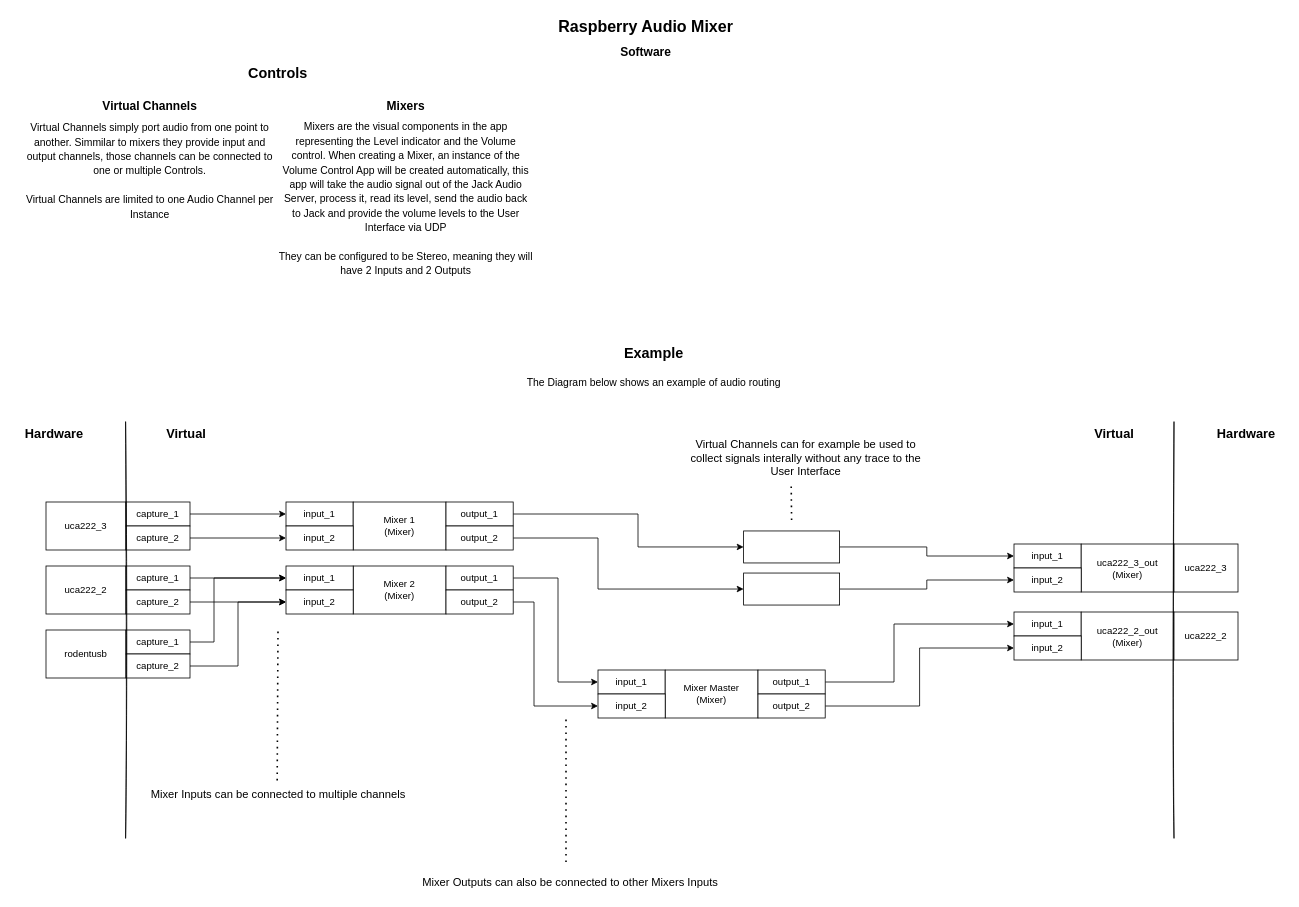
The diagram is 1299 pixels wide and 907 high, and some of its shapes have lost their labels. The centre of each missing label's shape, as x and y in pixels:
Channel Main L (Virtual Channel): pixel 791 546
Channel Main R (Virtual Channel): pixel 791 588
